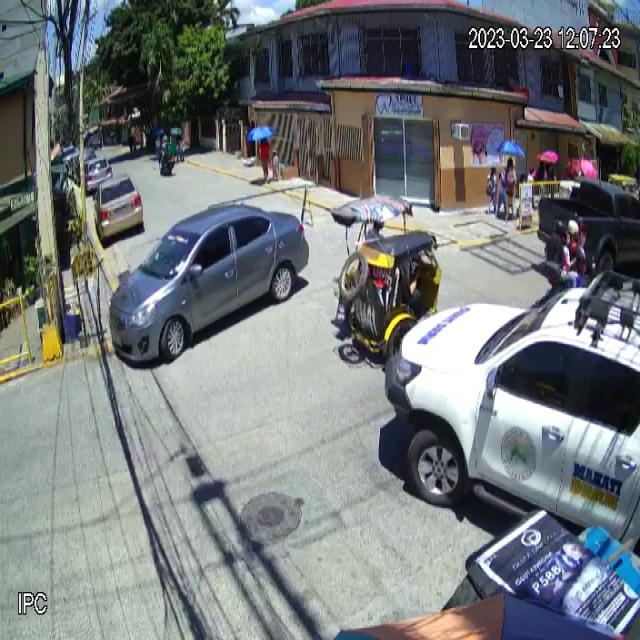Car: (107, 201, 310, 364)
Tricycle: (331, 189, 444, 369)
